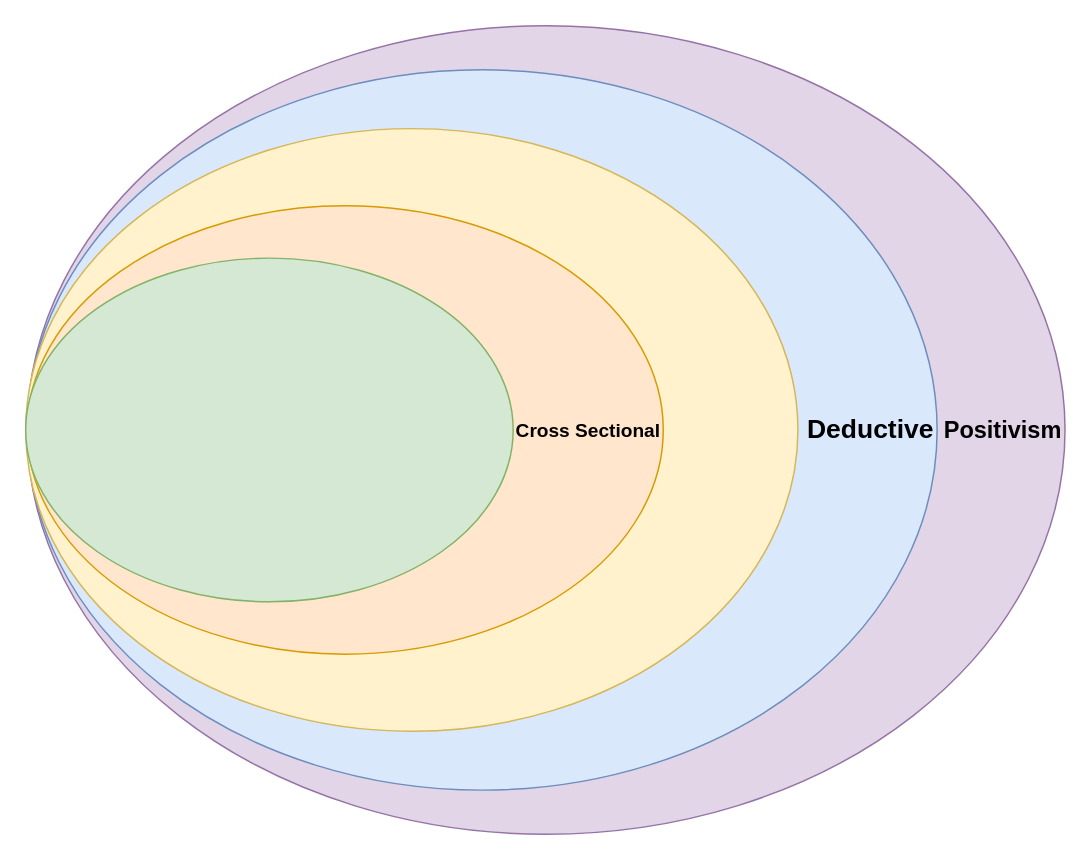
Image size: 1091x860. Some labels were removed from this diagram. The box of each missing label's shape, as (x1, y1, x2, y2) in pixels:
Experimental: (24, 127, 798, 731)
Gameplay Data Survey Feedback Data Comparison Analysis of Player Responses: (24, 257, 513, 602)
